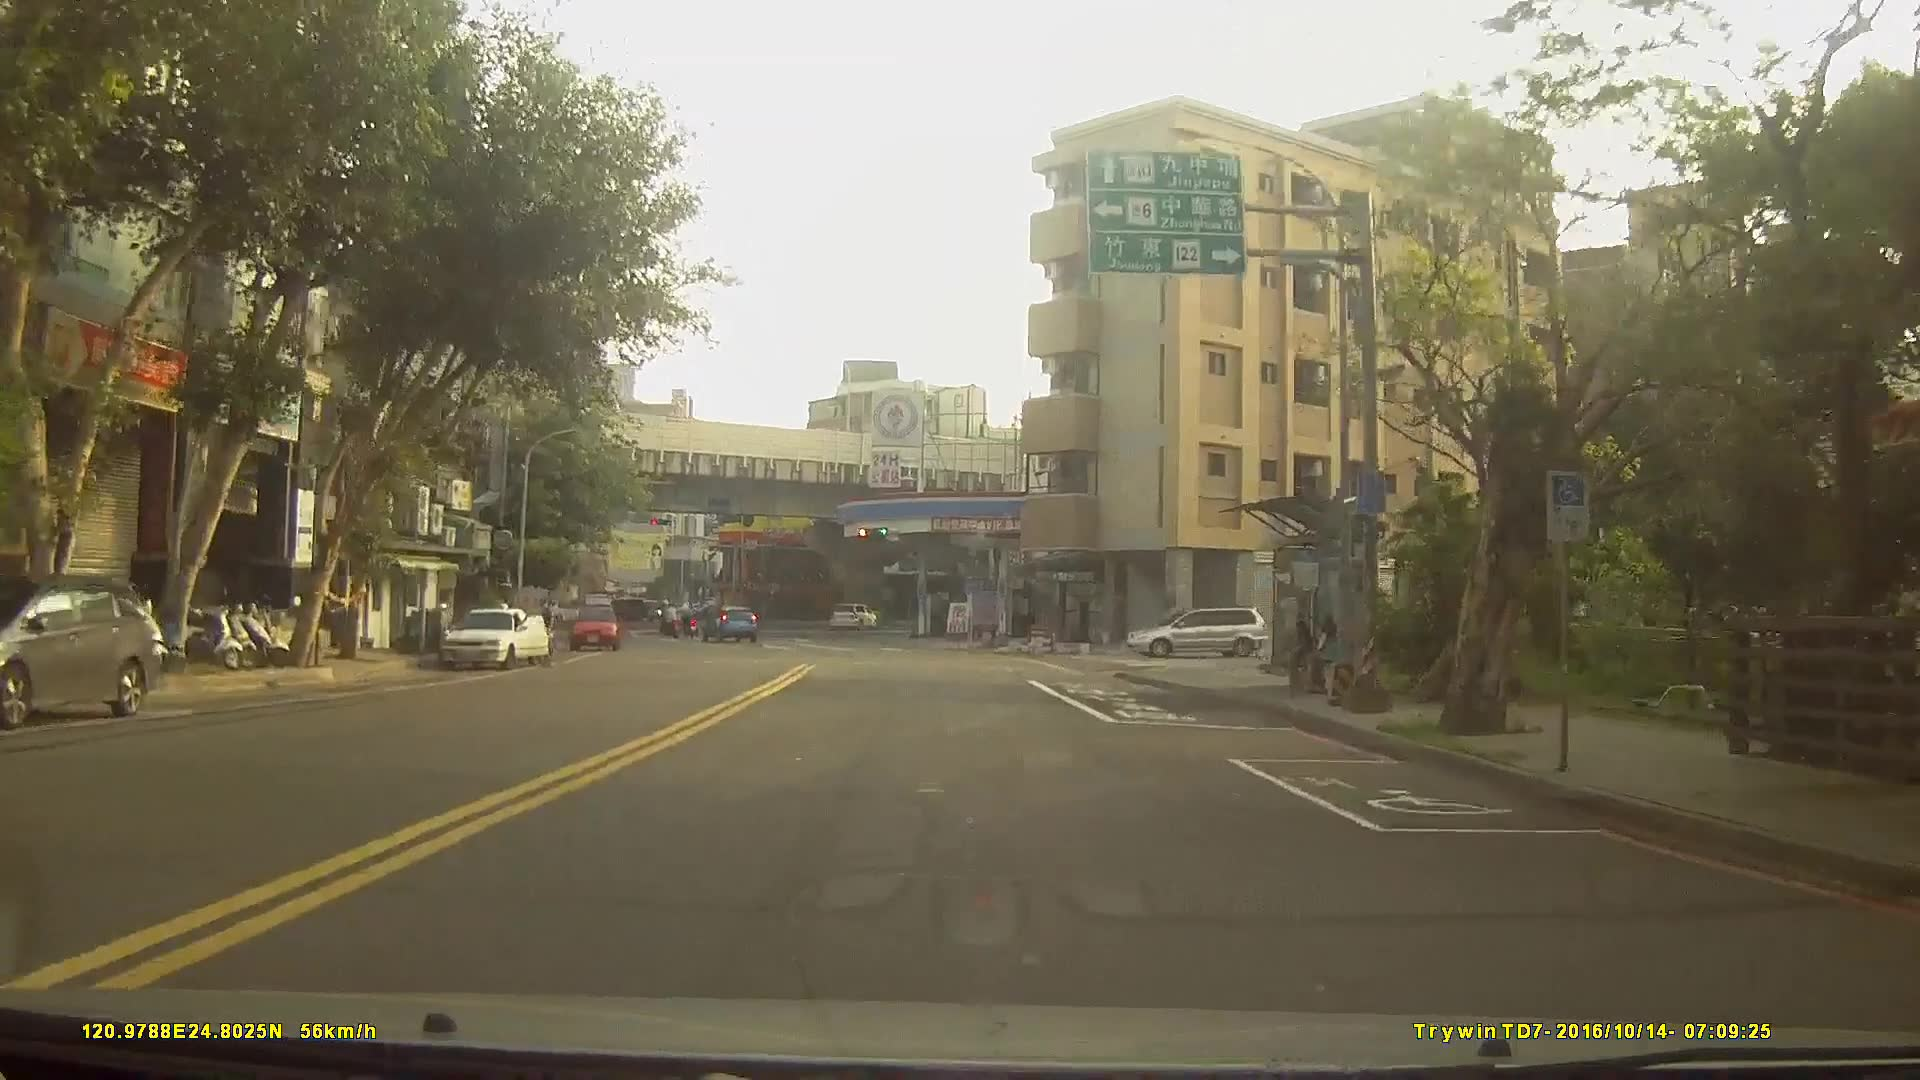pedestrian: (1308, 610, 1344, 705)
rider: (657, 602, 681, 641)
vehicle: (0, 571, 163, 730), (1127, 603, 1267, 657), (438, 605, 551, 669), (571, 603, 621, 653), (698, 602, 758, 642), (832, 602, 879, 630)
